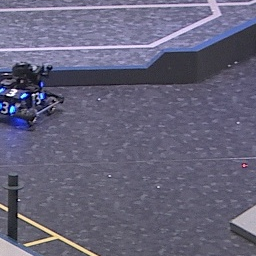Blue: (1, 85, 28, 99), (1, 101, 15, 116), (28, 92, 43, 105)
Robot: (1, 56, 65, 128)
